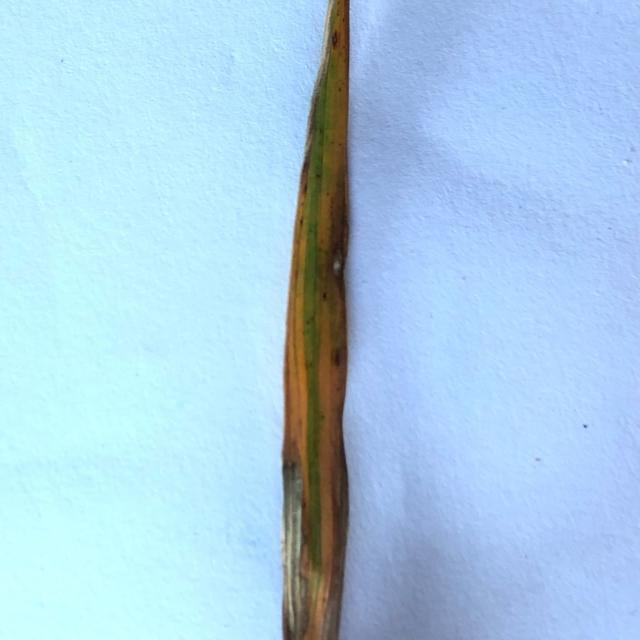Rice Tungro: (316, 0, 344, 579), (284, 195, 309, 515)
